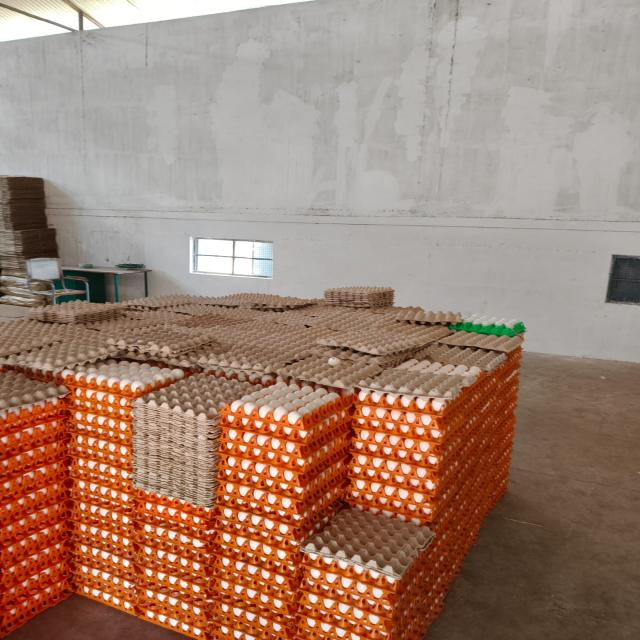egg_tray: (349, 376, 516, 521), (215, 448, 345, 624), (420, 420, 513, 636), (0, 372, 70, 634), (220, 383, 350, 522), (300, 508, 433, 637), (347, 417, 508, 523), (348, 418, 512, 522), (134, 373, 261, 507), (213, 500, 340, 623), (75, 494, 205, 614), (211, 502, 341, 609), (63, 361, 183, 473), (212, 502, 341, 602), (301, 550, 441, 640), (361, 344, 521, 421), (297, 551, 432, 640), (298, 552, 430, 640), (0, 372, 67, 544), (0, 371, 67, 543), (355, 376, 516, 447), (429, 416, 514, 550), (135, 492, 212, 637), (296, 560, 434, 640), (213, 516, 301, 636), (357, 361, 516, 425), (71, 456, 136, 612), (449, 422, 513, 577), (351, 426, 473, 507), (354, 377, 500, 444), (69, 411, 135, 558), (63, 362, 192, 435), (302, 508, 434, 579), (60, 363, 170, 442), (0, 398, 67, 525), (59, 360, 187, 426), (219, 436, 348, 501), (354, 403, 478, 470), (217, 463, 345, 527), (212, 505, 338, 570), (212, 530, 301, 622), (351, 428, 464, 500), (220, 414, 350, 475), (0, 499, 70, 611), (0, 503, 70, 613), (225, 383, 341, 449), (351, 427, 463, 494), (216, 471, 345, 529), (217, 445, 348, 502), (221, 382, 353, 438), (71, 500, 136, 613), (420, 502, 474, 637), (69, 434, 134, 546), (132, 424, 219, 507), (354, 403, 466, 467), (0, 501, 68, 605), (347, 455, 450, 523), (0, 440, 67, 544), (210, 561, 300, 637), (76, 448, 139, 554), (306, 586, 428, 640), (134, 373, 262, 424), (71, 457, 135, 558), (0, 449, 68, 544), (215, 500, 339, 549), (210, 322, 331, 372), (318, 323, 449, 368), (63, 361, 183, 410), (69, 428, 135, 514), (0, 561, 73, 636), (414, 544, 471, 638), (0, 328, 121, 372), (136, 569, 213, 638), (359, 358, 483, 400), (69, 424, 132, 506), (137, 568, 212, 636), (0, 320, 107, 366), (194, 340, 313, 381), (61, 359, 185, 398), (126, 492, 197, 560), (73, 538, 136, 614), (302, 602, 428, 640), (136, 490, 213, 552), (132, 454, 219, 506), (318, 323, 452, 354), (84, 363, 182, 405), (219, 309, 325, 346), (220, 310, 326, 346), (357, 368, 477, 399), (0, 370, 68, 424), (150, 358, 281, 386), (277, 355, 382, 389), (170, 545, 217, 618), (106, 324, 216, 355), (209, 341, 312, 374), (193, 307, 305, 337), (211, 601, 297, 640), (209, 603, 296, 640), (210, 602, 292, 640), (269, 324, 332, 370), (212, 607, 298, 640), (0, 220, 55, 270), (75, 567, 136, 612), (311, 345, 425, 369), (0, 320, 75, 356), (74, 570, 135, 614), (67, 409, 132, 450), (119, 345, 220, 371), (197, 308, 306, 331), (424, 343, 506, 373), (195, 345, 284, 372), (477, 348, 522, 401), (110, 351, 202, 376), (478, 349, 522, 401), (445, 350, 521, 380), (27, 300, 122, 324), (299, 305, 389, 330), (307, 308, 397, 333), (144, 305, 245, 327), (81, 575, 139, 612), (69, 387, 132, 421), (190, 306, 282, 329), (436, 331, 523, 353), (206, 293, 318, 310), (478, 372, 518, 419), (267, 306, 345, 330), (312, 345, 396, 367), (122, 354, 204, 376), (251, 308, 317, 335), (394, 358, 482, 378), (121, 294, 210, 313), (202, 366, 282, 387), (210, 293, 321, 308), (203, 366, 282, 387), (450, 314, 524, 336), (334, 305, 421, 323), (378, 342, 438, 368), (174, 340, 228, 368), (488, 349, 521, 394), (55, 303, 123, 324), (181, 309, 249, 330), (0, 176, 43, 209), (303, 303, 397, 318), (324, 287, 394, 307), (164, 297, 238, 315), (82, 317, 165, 333), (46, 322, 107, 343), (0, 365, 63, 385), (251, 294, 321, 312), (324, 291, 394, 309), (169, 294, 260, 307), (269, 299, 330, 318), (394, 308, 461, 325), (124, 309, 190, 326), (164, 303, 227, 320), (95, 474, 132, 502), (376, 348, 424, 369), (460, 314, 521, 329), (269, 309, 314, 328), (500, 338, 522, 376), (211, 293, 270, 307), (203, 293, 260, 307), (268, 296, 324, 310), (365, 306, 423, 317), (325, 286, 393, 295), (290, 298, 327, 314), (315, 505, 339, 529), (343, 310, 379, 322), (194, 323, 229, 334), (101, 567, 126, 579), (219, 602, 232, 624), (77, 480, 95, 494), (127, 310, 162, 317), (101, 418, 125, 428), (144, 567, 153, 590), (229, 425, 242, 439), (257, 598, 277, 607), (0, 365, 16, 374), (73, 504, 82, 519), (340, 410, 348, 426), (107, 320, 126, 326), (165, 570, 178, 578), (325, 511, 335, 521), (220, 556, 228, 568), (248, 572, 260, 580), (25, 212, 35, 221), (30, 548, 41, 556), (172, 612, 183, 620), (396, 455, 410, 461), (156, 553, 165, 562), (99, 509, 109, 517), (374, 377, 382, 387), (206, 531, 213, 542), (227, 496, 238, 503), (291, 325, 305, 330), (153, 564, 167, 569), (434, 604, 441, 614), (311, 502, 318, 512), (93, 416, 104, 422), (151, 576, 159, 584), (475, 422, 483, 430), (447, 369, 456, 376), (157, 613, 164, 622), (50, 387, 59, 394), (219, 609, 228, 616), (429, 388, 444, 392), (97, 491, 103, 501), (417, 361, 425, 368), (274, 525, 281, 533), (252, 306, 266, 310), (406, 417, 414, 424), (243, 616, 250, 624), (125, 593, 132, 601), (219, 481, 224, 492), (178, 620, 185, 627), (143, 560, 151, 566), (263, 342, 271, 348), (262, 342, 270, 348), (174, 431, 180, 438), (26, 408, 33, 414), (145, 515, 151, 522), (15, 220, 22, 226), (357, 483, 364, 489), (253, 313, 259, 320), (261, 434, 271, 438), (122, 441, 130, 446), (271, 592, 281, 596), (314, 349, 322, 354), (424, 378, 433, 382), (427, 460, 436, 464), (89, 483, 95, 489), (49, 305, 58, 309), (186, 352, 195, 356), (378, 412, 384, 418), (173, 308, 182, 312), (223, 599, 229, 605), (255, 446, 261, 452), (9, 204, 16, 209), (269, 318, 276, 323), (242, 305, 249, 310), (147, 388, 155, 392), (35, 224, 43, 228), (465, 355, 471, 360), (334, 421, 340, 426), (111, 580, 117, 585), (79, 569, 85, 574), (83, 537, 90, 541), (306, 529, 313, 533), (179, 562, 186, 566), (333, 353, 340, 357), (253, 304, 260, 308), (245, 367, 254, 370), (156, 549, 161, 554), (301, 596, 306, 601), (247, 331, 252, 336), (274, 314, 279, 319), (422, 372, 428, 376), (434, 448, 442, 451), (421, 618, 425, 624), (219, 610, 225, 614), (233, 606, 239, 610), (252, 344, 258, 348), (424, 571, 427, 578), (268, 423, 275, 426), (221, 619, 228, 622), (295, 311, 302, 314), (177, 612, 181, 617), (433, 362, 438, 366), (84, 574, 88, 579), (108, 443, 112, 448), (358, 458, 362, 463), (301, 596, 305, 601), (0, 203, 4, 208), (163, 555, 169, 558), (359, 582, 362, 588), (12, 614, 18, 617), (229, 341, 235, 344), (127, 370, 131, 374), (127, 326, 135, 328), (145, 610, 149, 614), (17, 214, 21, 218), (200, 542, 204, 546), (199, 533, 203, 537), (318, 502, 322, 506), (221, 483, 223, 491), (233, 310, 241, 312), (443, 378, 446, 383), (407, 371, 410, 376), (261, 576, 266, 579), (296, 310, 301, 313), (0, 211, 5, 214), (289, 455, 294, 458), (361, 461, 366, 464), (333, 328, 339, 330), (421, 388, 425, 391), (478, 370, 481, 374), (83, 387, 87, 390), (77, 416, 81, 419), (171, 555, 174, 559), (0, 394, 3, 398), (235, 618, 241, 620), (253, 629, 257, 632), (342, 406, 346, 409), (94, 527, 97, 531), (445, 365, 447, 370), (292, 622, 294, 627), (471, 417, 476, 419), (94, 362, 99, 364), (186, 354, 191, 356), (44, 284, 46, 289), (407, 350, 412, 352), (339, 459, 342, 462), (242, 609, 245, 612), (229, 593, 232, 596), (378, 463, 381, 466), (109, 348, 113, 350), (438, 367, 442, 369), (51, 448, 55, 450), (45, 307, 49, 309), (262, 566, 266, 568), (365, 414, 369, 416), (452, 357, 456, 359), (164, 356, 168, 358), (247, 527, 251, 529), (102, 509, 105, 511), (425, 581, 427, 584), (172, 617, 174, 620), (92, 440, 95, 442), (256, 482, 259, 484), (38, 283, 41, 285), (273, 522, 276, 524), (196, 544, 198, 547), (463, 389, 465, 392), (427, 509, 430, 511), (465, 546, 467, 549), (258, 370, 261, 372), (165, 360, 168, 362), (183, 564, 186, 566), (292, 326, 295, 328), (300, 325, 303, 327), (348, 398, 350, 401), (336, 485, 339, 487), (222, 322, 225, 324), (166, 322, 172, 323), (408, 635, 411, 637), (173, 601, 175, 604), (443, 362, 448, 363), (168, 360, 173, 361), (230, 323, 235, 324), (325, 332, 327, 334), (223, 436, 225, 438), (415, 384, 417, 386), (183, 630, 185, 632), (172, 626, 174, 628), (251, 573, 253, 575), (282, 594, 284, 596), (177, 315, 179, 317), (92, 472, 94, 474), (43, 578, 45, 580), (424, 361, 428, 362), (54, 509, 58, 510), (455, 551, 457, 553), (25, 220, 27, 222), (0, 613, 2, 615), (221, 422, 223, 424), (128, 578, 130, 580), (128, 580, 130, 582), (327, 465, 330, 466), (181, 596, 182, 599), (259, 565, 262, 566), (361, 392, 364, 393), (333, 307, 336, 308), (497, 351, 500, 352), (461, 329, 464, 330), (254, 629, 255, 632), (374, 463, 375, 466), (327, 334, 330, 335), (187, 506, 190, 507), (92, 458, 94, 459), (187, 599, 188, 601), (155, 588, 156, 590), (79, 301, 81, 302), (410, 447, 412, 448), (274, 325, 276, 326), (236, 591, 238, 592), (98, 363, 100, 364), (35, 590, 37, 591), (394, 418, 396, 419), (297, 636, 299, 637), (360, 507, 362, 508), (251, 312, 253, 313), (301, 327, 303, 328), (450, 483, 452, 484), (219, 525, 221, 526), (234, 627, 236, 628), (80, 576, 82, 577), (265, 441, 266, 442), (429, 365, 430, 366), (107, 438, 108, 439), (116, 327, 117, 328), (400, 460, 401, 461), (158, 387, 159, 388), (232, 580, 233, 581), (443, 378, 444, 379), (354, 487, 355, 488), (161, 296, 162, 297), (292, 451, 293, 452), (173, 625, 174, 626), (285, 428, 286, 428), (62, 510, 64, 510), (29, 456, 30, 456), (50, 443, 53, 443), (250, 576, 250, 576), (230, 543, 230, 543), (367, 461, 368, 461), (231, 343, 233, 343), (290, 594, 291, 594), (21, 212, 22, 212), (358, 383, 359, 383), (187, 506, 190, 506), (80, 452, 82, 452), (147, 361, 148, 361), (435, 363, 439, 363), (203, 590, 204, 590), (198, 570, 199, 570), (209, 541, 210, 541), (6, 212, 7, 212), (477, 332, 480, 332), (473, 330, 474, 330), (36, 612, 38, 612), (50, 343, 52, 343), (436, 479, 437, 479), (225, 521, 226, 521), (223, 443, 223, 443), (327, 503, 328, 503), (290, 312, 293, 312)
